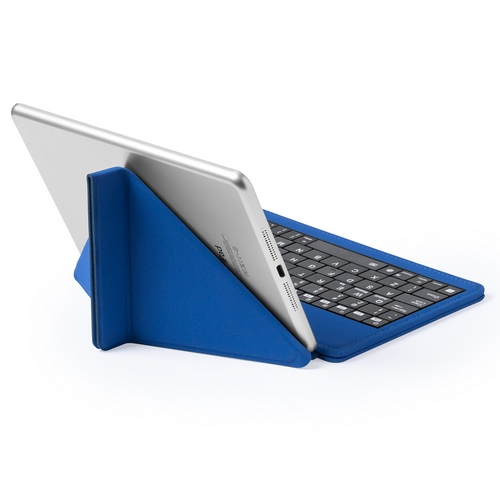Teclado: (211, 200, 488, 371)
